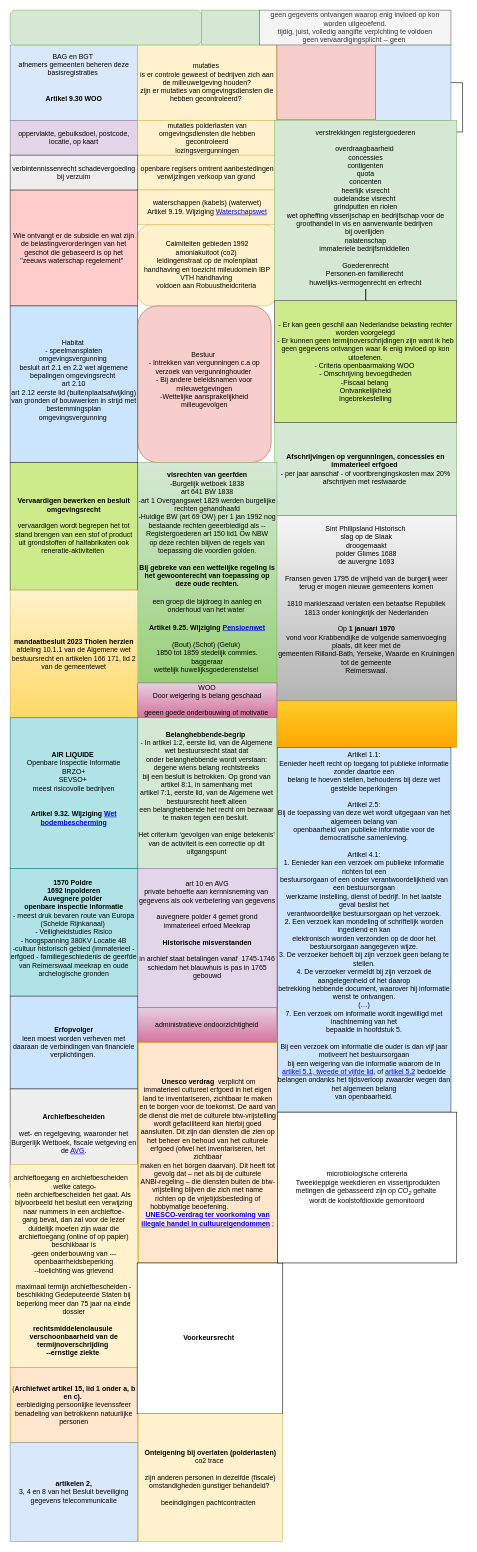
Image size: 477x1552. Some labels were removed from this diagram. The centre of each missing label's shape, as x and y in pixels:
"artilel 4.1 woo artikel 4.4 lid2 woo" belongs at point (230, 27).
"het nemen van besluiten op verzoeken artikel 3 WHO" belongs at point (413, 82).
"informatie achterhouden, selectief omgaan met WOO" belongs at point (106, 27).
"is er selectief omgegaan met de Wet van open overheid?" belongs at point (326, 82).
"Wie ik was, weet ik uit de verhalen van anderen. afstammingsrecht 1993" belongs at point (366, 723).
